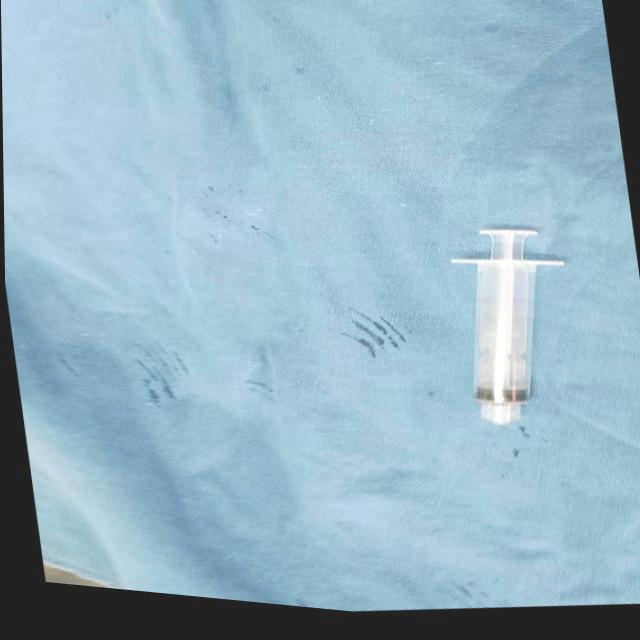Pathological: (1, 0, 640, 610)
Sharps: (450, 224, 567, 406)
